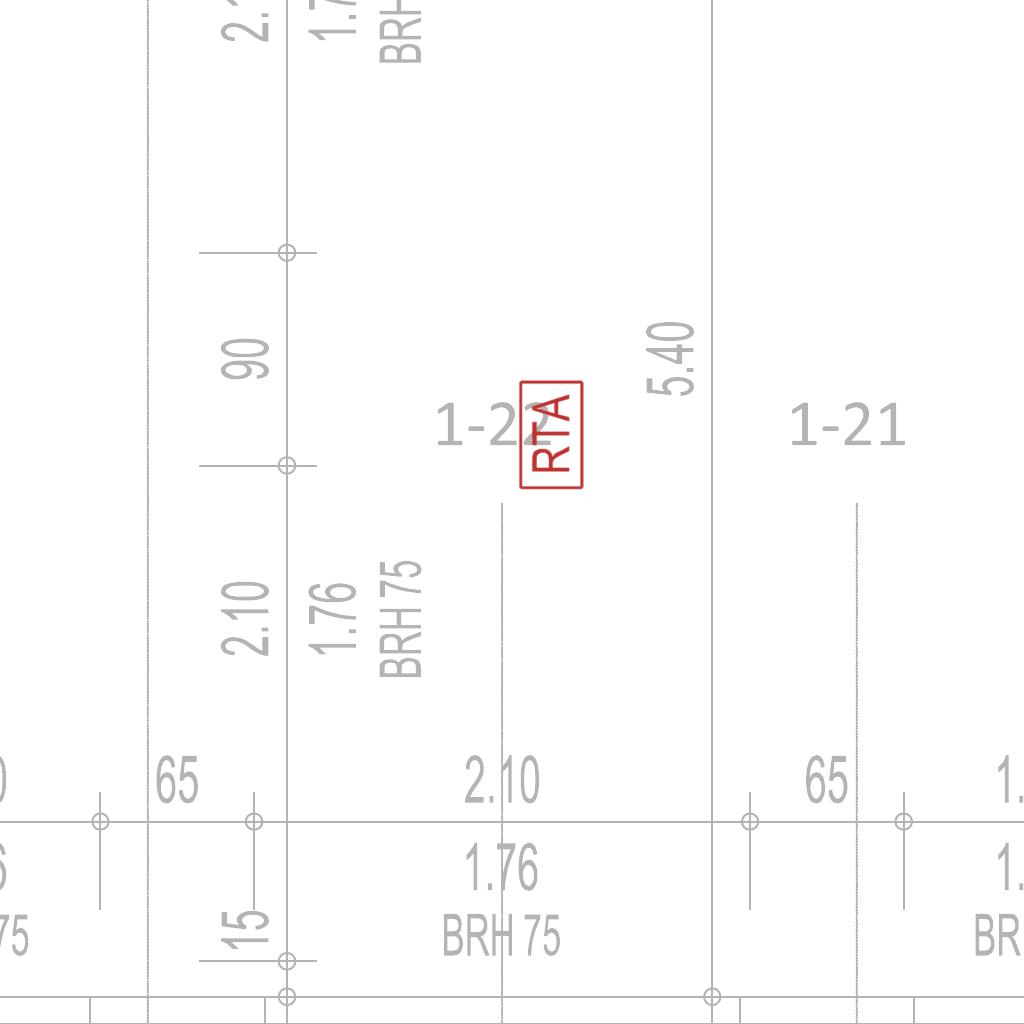Ruf-und_Abstelltaster: (517, 379, 586, 493)
